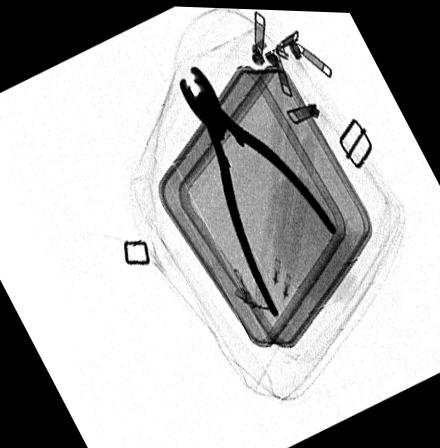Pliers: (180, 61, 336, 316)
